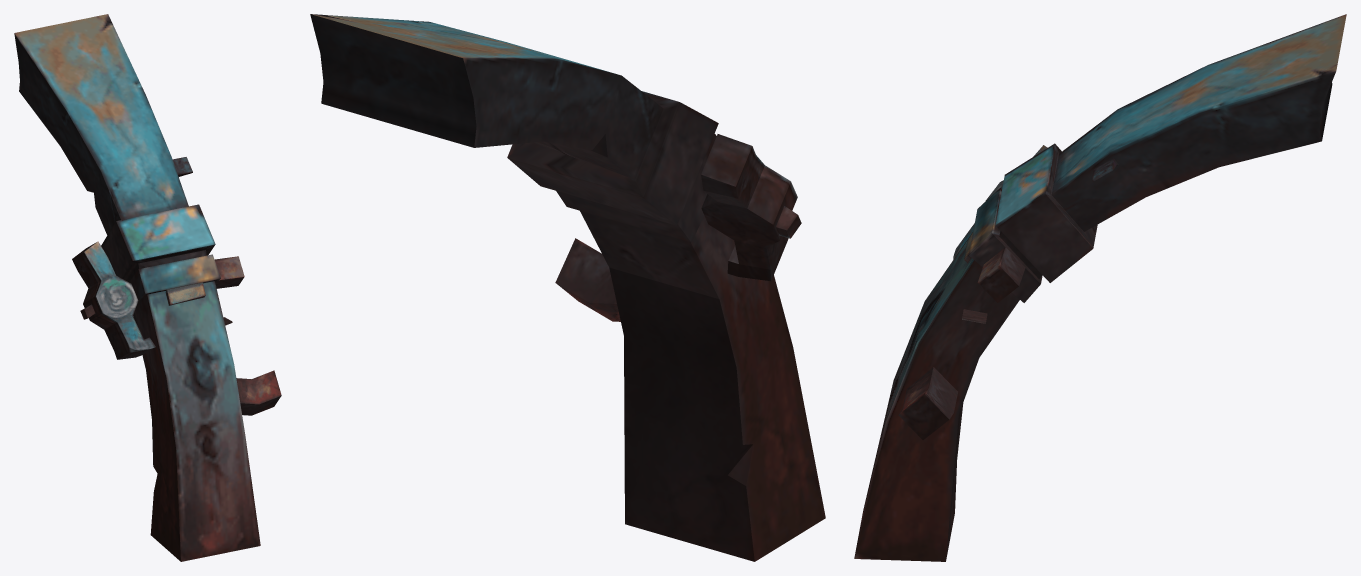
File: huoguanshigong01.FBX
3 renders of one model, left to right at view 1: azimuth 30°, elevation 25°; view 2: azimuth 150°, elevation 25°; view 3: azimuth 270°, elevation 25°, orthographic. The views are drawn at different scales.
Parts seen in each view (by area): view 1: huoguanshigong, Object01; view 2: Object01, huoguanshigong; view 3: huoguanshigong, Object01.
Boxes of the visible parts, <box> form: huoguanshigong: <box>14,14,244,330</box>; Object01: <box>72,241,281,561</box>; Object01: <box>555,134,825,561</box>; huoguanshigong: <box>310,14,718,298</box>; huoguanshigong: <box>941,14,1346,357</box>; Object01: <box>854,145,1047,561</box>.
Bounding box in the file's own units: 284 × 582 × 662.
